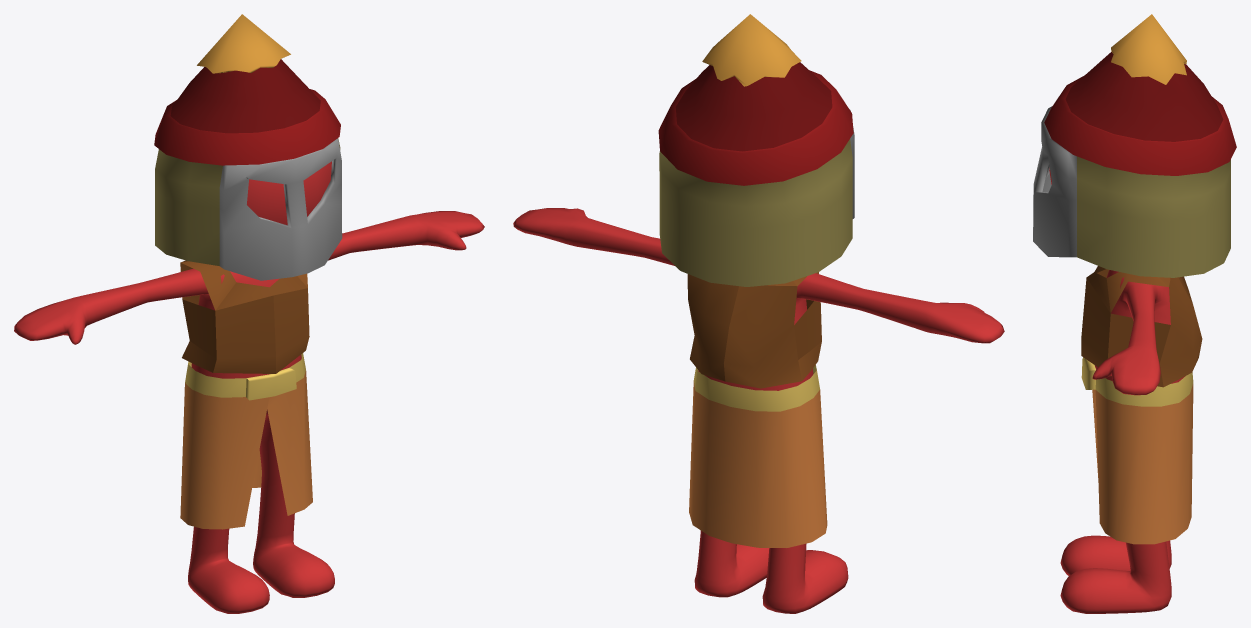
The model's file is Enemy3_v1.fbx.
The picture shows the model from 3 angles, left to right: view 1: azimuth 30°, elevation 25°; view 2: azimuth 150°, elevation 25°; view 3: azimuth 270°, elevation 25°; orthographic projection. The views are drawn at different scales.
Visible parts, largest first — view 1: polySurface36, polySurface34, polySurface42, pCube4; view 2: polySurface36, polySurface42, polySurface34, pCube4; view 3: polySurface36, polySurface42, polySurface34, pCube4.
Part boxes in pixels (x1,y1,x2,y2): polySurface36: (154,14,342,280); polySurface34: (14,161,484,613); polySurface42: (180,353,312,529); pCube4: (180,260,309,373); polySurface36: (658,14,854,286); polySurface42: (689,365,827,547); polySurface34: (513,208,1004,613); pCube4: (687,272,821,388); polySurface36: (1033,14,1236,277); polySurface42: (1081,357,1193,544); polySurface34: (1049,168,1185,613); pCube4: (1081,266,1202,387).
Bounding box in the file's own units: 678 × 786 × 253.
